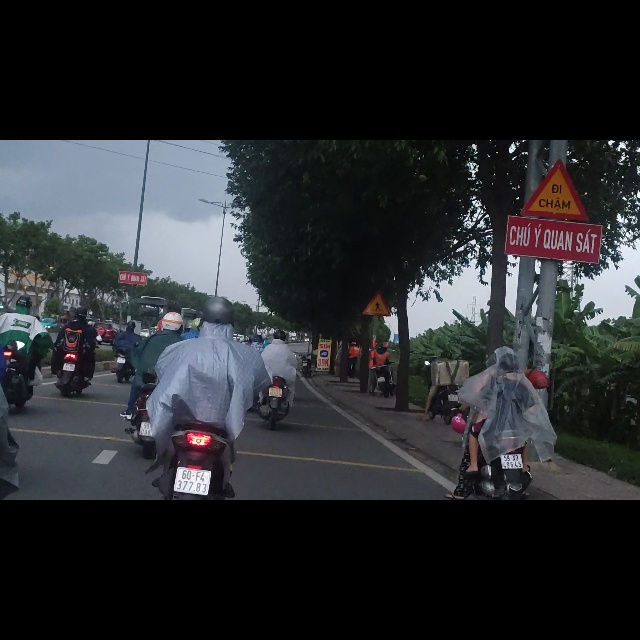bien_nguy_hiem: (518, 32, 589, 143), (362, 268, 390, 313)
